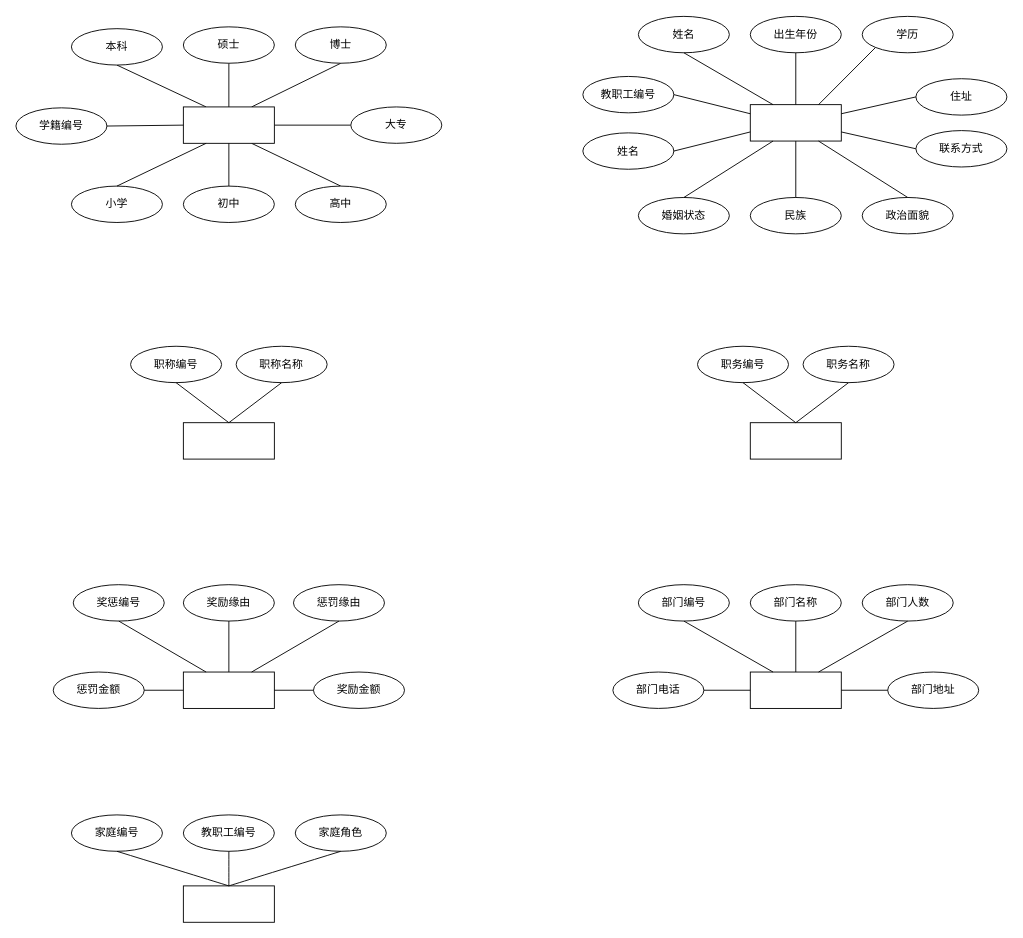
Some shapes in this 1023 by 938 pixel diagram are drawn without their labels. Here are the shapes that lost their labels. From the top down, the centre of each, then its label:
(x=228, y=124): 学籍经历
(x=795, y=122): 教职工
(x=228, y=440): 职称
(x=795, y=440): 职务
(x=228, y=689): 奖惩
(x=795, y=689): 部门
(x=228, y=903): 家庭关系
